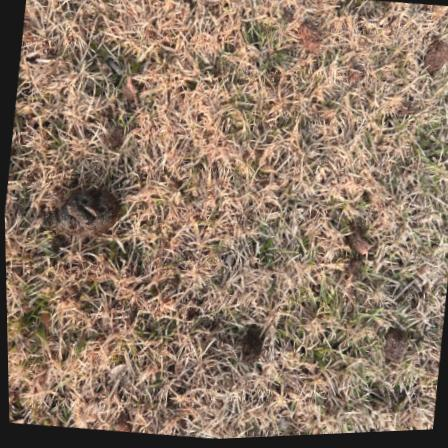dog-poop: (38, 175, 125, 249), (232, 324, 276, 372)
